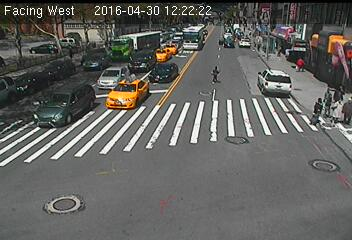neg: (32, 64, 69, 113), (224, 28, 248, 61), (64, 88, 84, 115), (2, 68, 20, 92), (126, 37, 142, 58), (146, 34, 159, 51), (213, 34, 226, 51)
pos: (306, 93, 330, 125), (319, 86, 340, 115), (329, 98, 349, 125), (339, 95, 351, 126), (292, 56, 307, 76), (273, 41, 287, 61)
